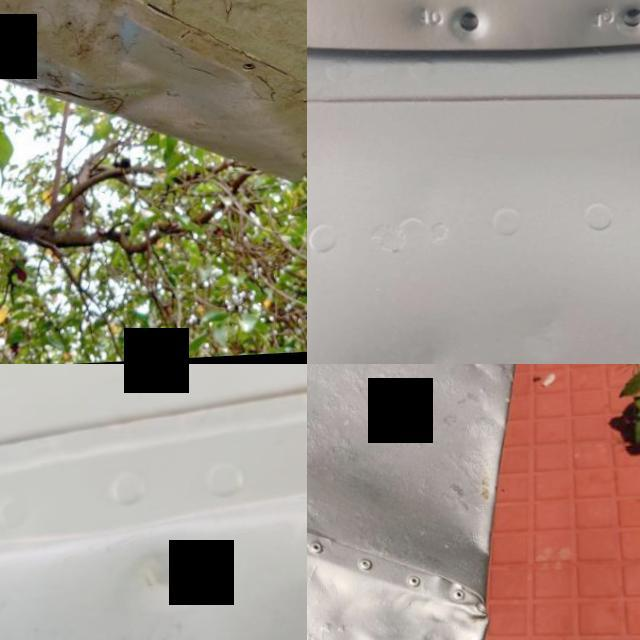Dent: (0, 0, 178, 129), (101, 526, 232, 632), (329, 607, 492, 640)
Missing_Fastener: (428, 0, 501, 56), (597, 0, 640, 56), (224, 52, 262, 88)
